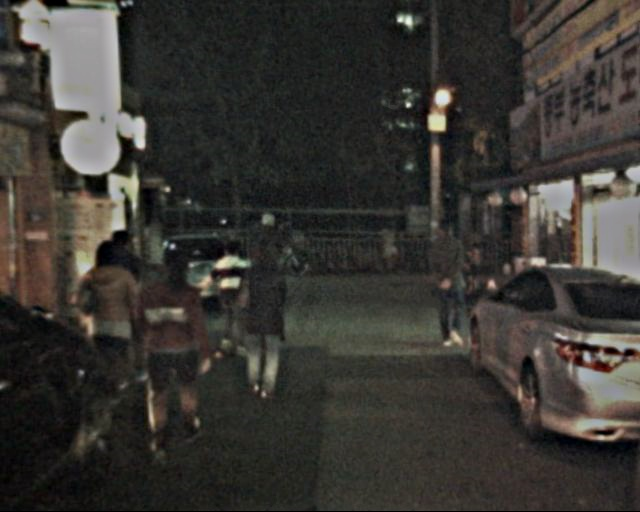person: (139, 248, 213, 442), (80, 243, 144, 387), (234, 245, 294, 391), (96, 228, 155, 359), (423, 224, 476, 346), (245, 214, 293, 325), (206, 242, 252, 350)
